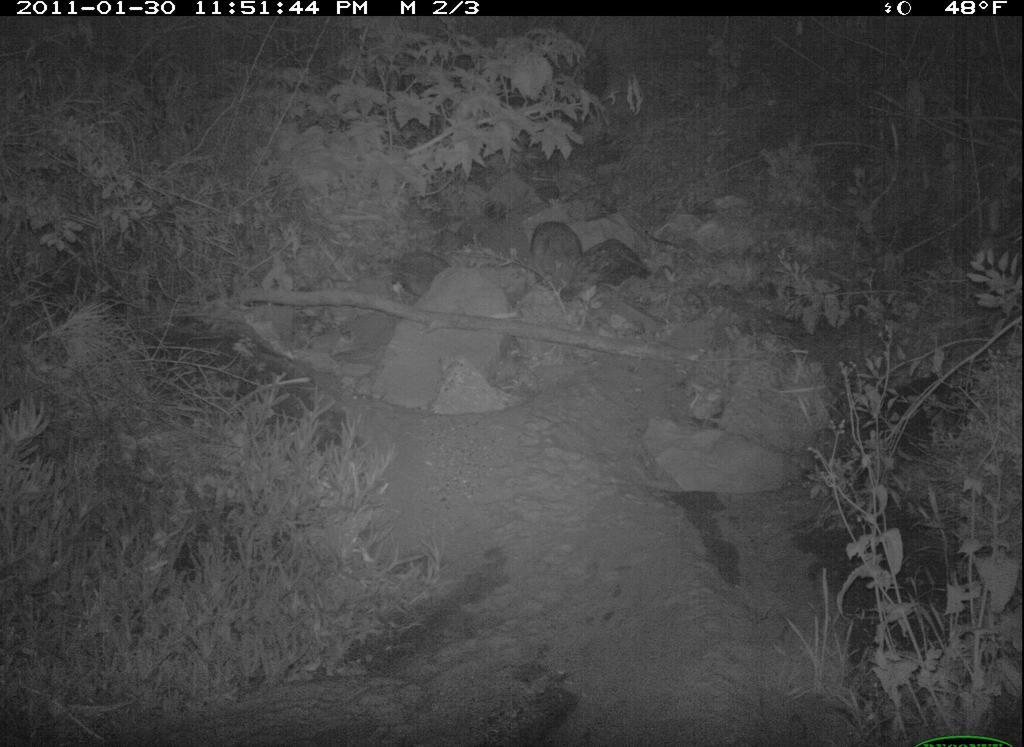raccoon: (516, 214, 629, 317)
